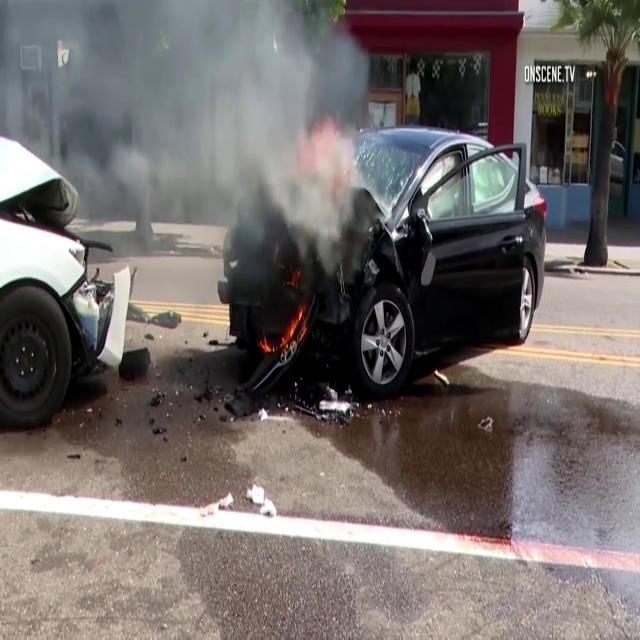Smoke: (5, 0, 396, 274)
